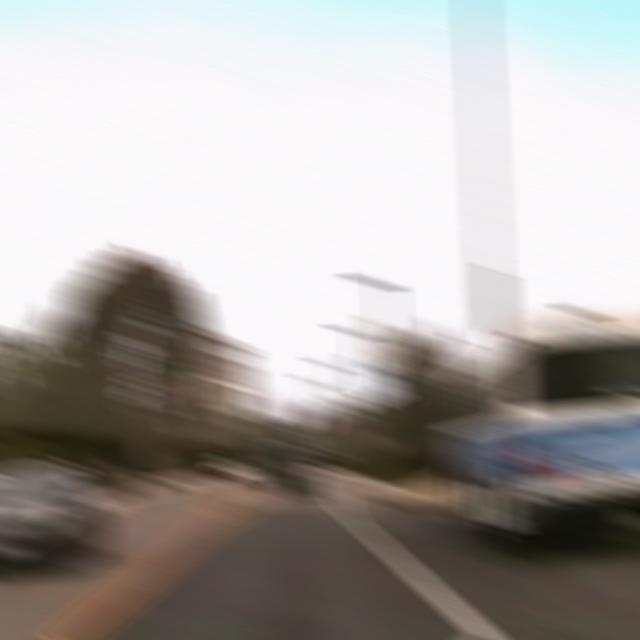stop: (354, 423, 378, 441)
